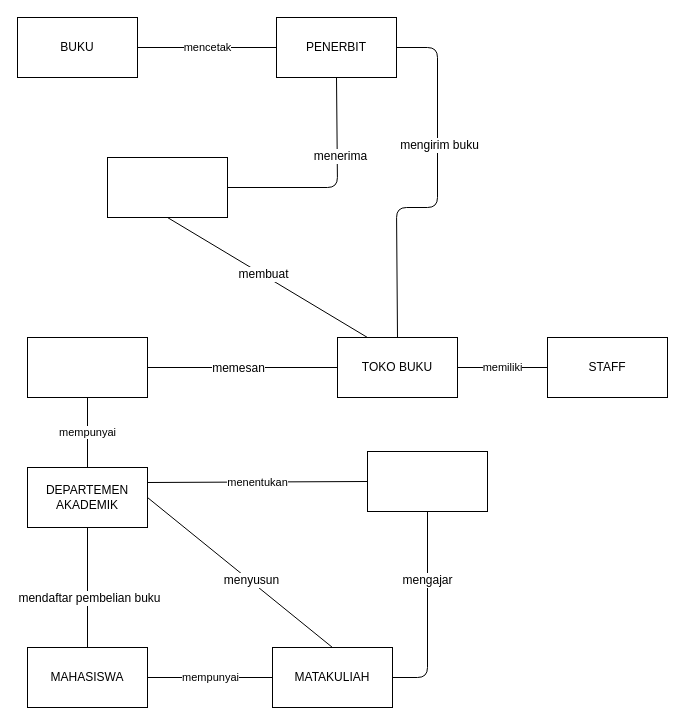
This 685x725 diagram has some shape labels left out. Each missing label, with the centre of its shape:
"DOSEN" belongs at (x=427, y=481).
"PREORDER" belongs at (x=167, y=187).
"UNIVERSITAS" belongs at (x=87, y=367).
